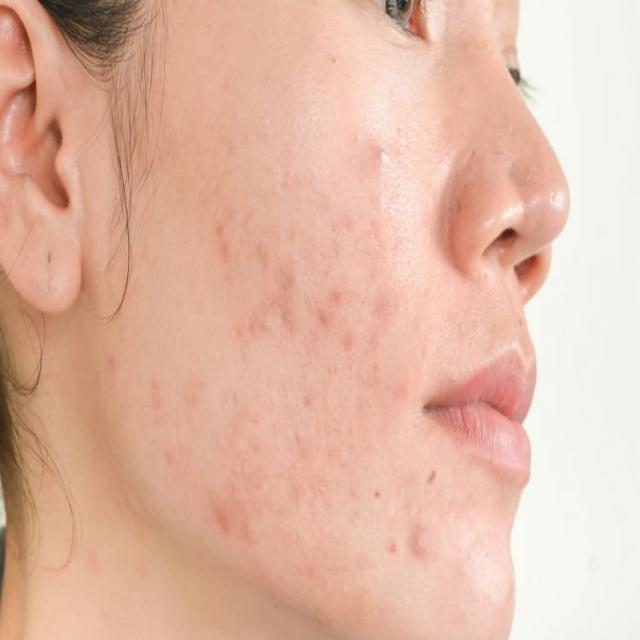Acne: (133, 138, 445, 580)
